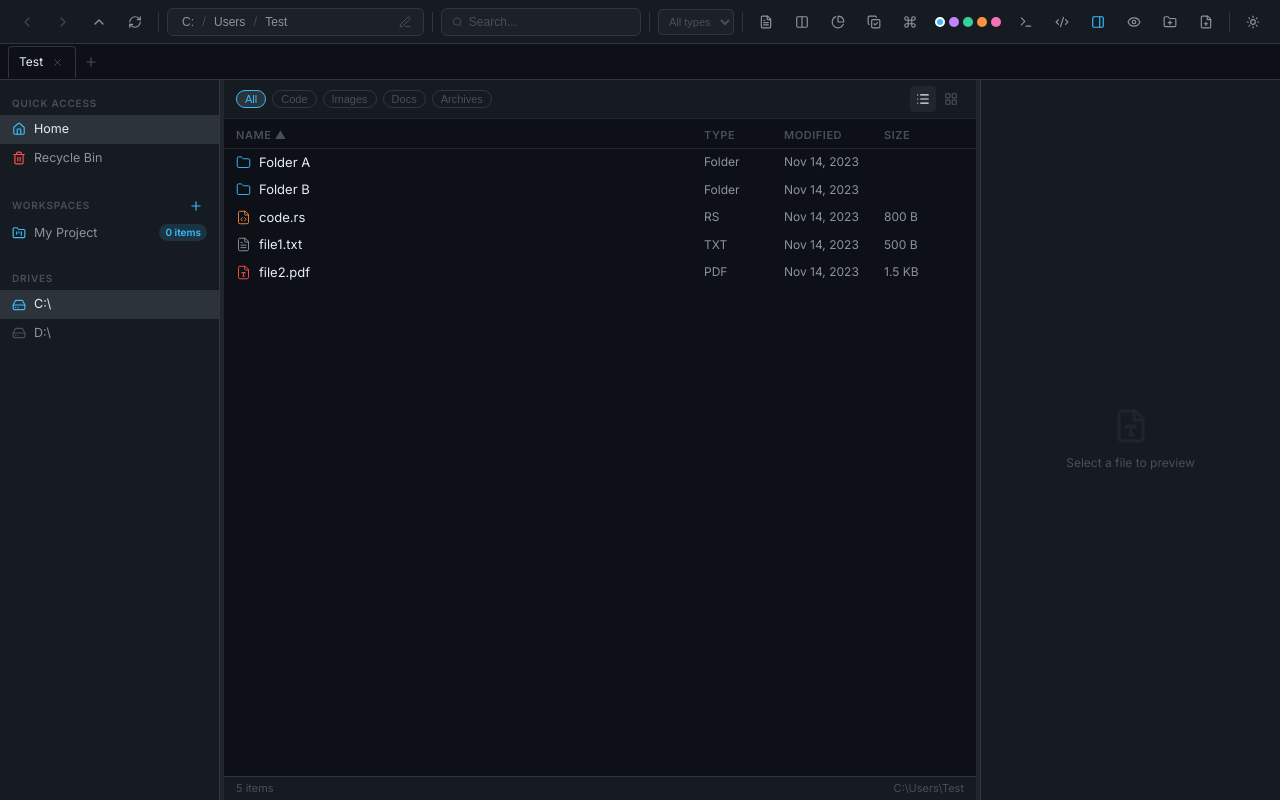
Test case: App Component Full Integration Suite › opens New Folder modal when clicking FolderPlus button
The width and height of the screenshot is (1280, 800).
expect the text "file1.txt" is shown: met, box [259, 235, 302, 254]
Click the button titled "New Folder".
click(1170, 22)  # box [1155, 6, 1185, 36]
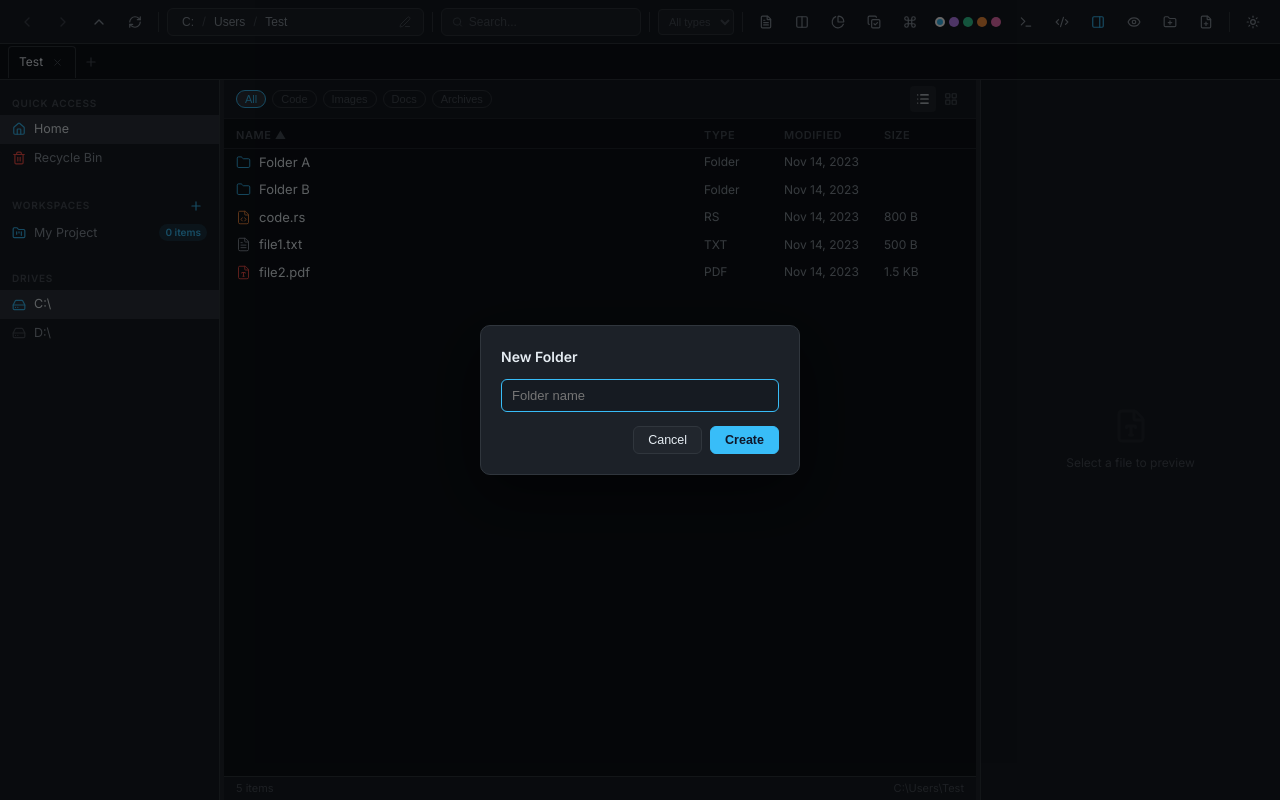
expect the text "New Folder" is shown: met, box [501, 348, 578, 365]
